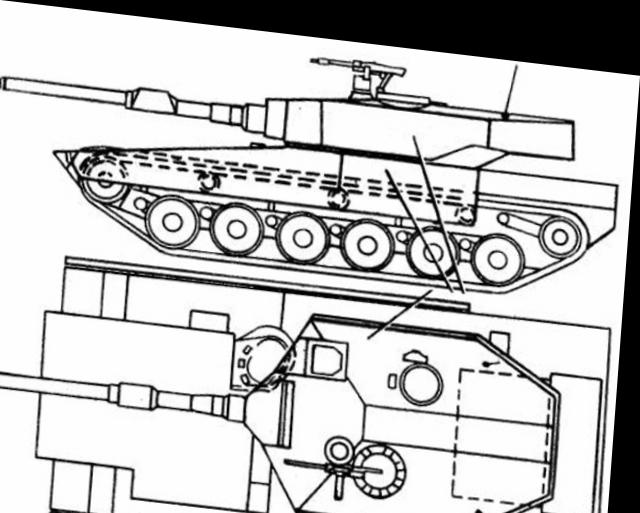tank: (48, 22, 639, 305), (23, 260, 625, 512)
